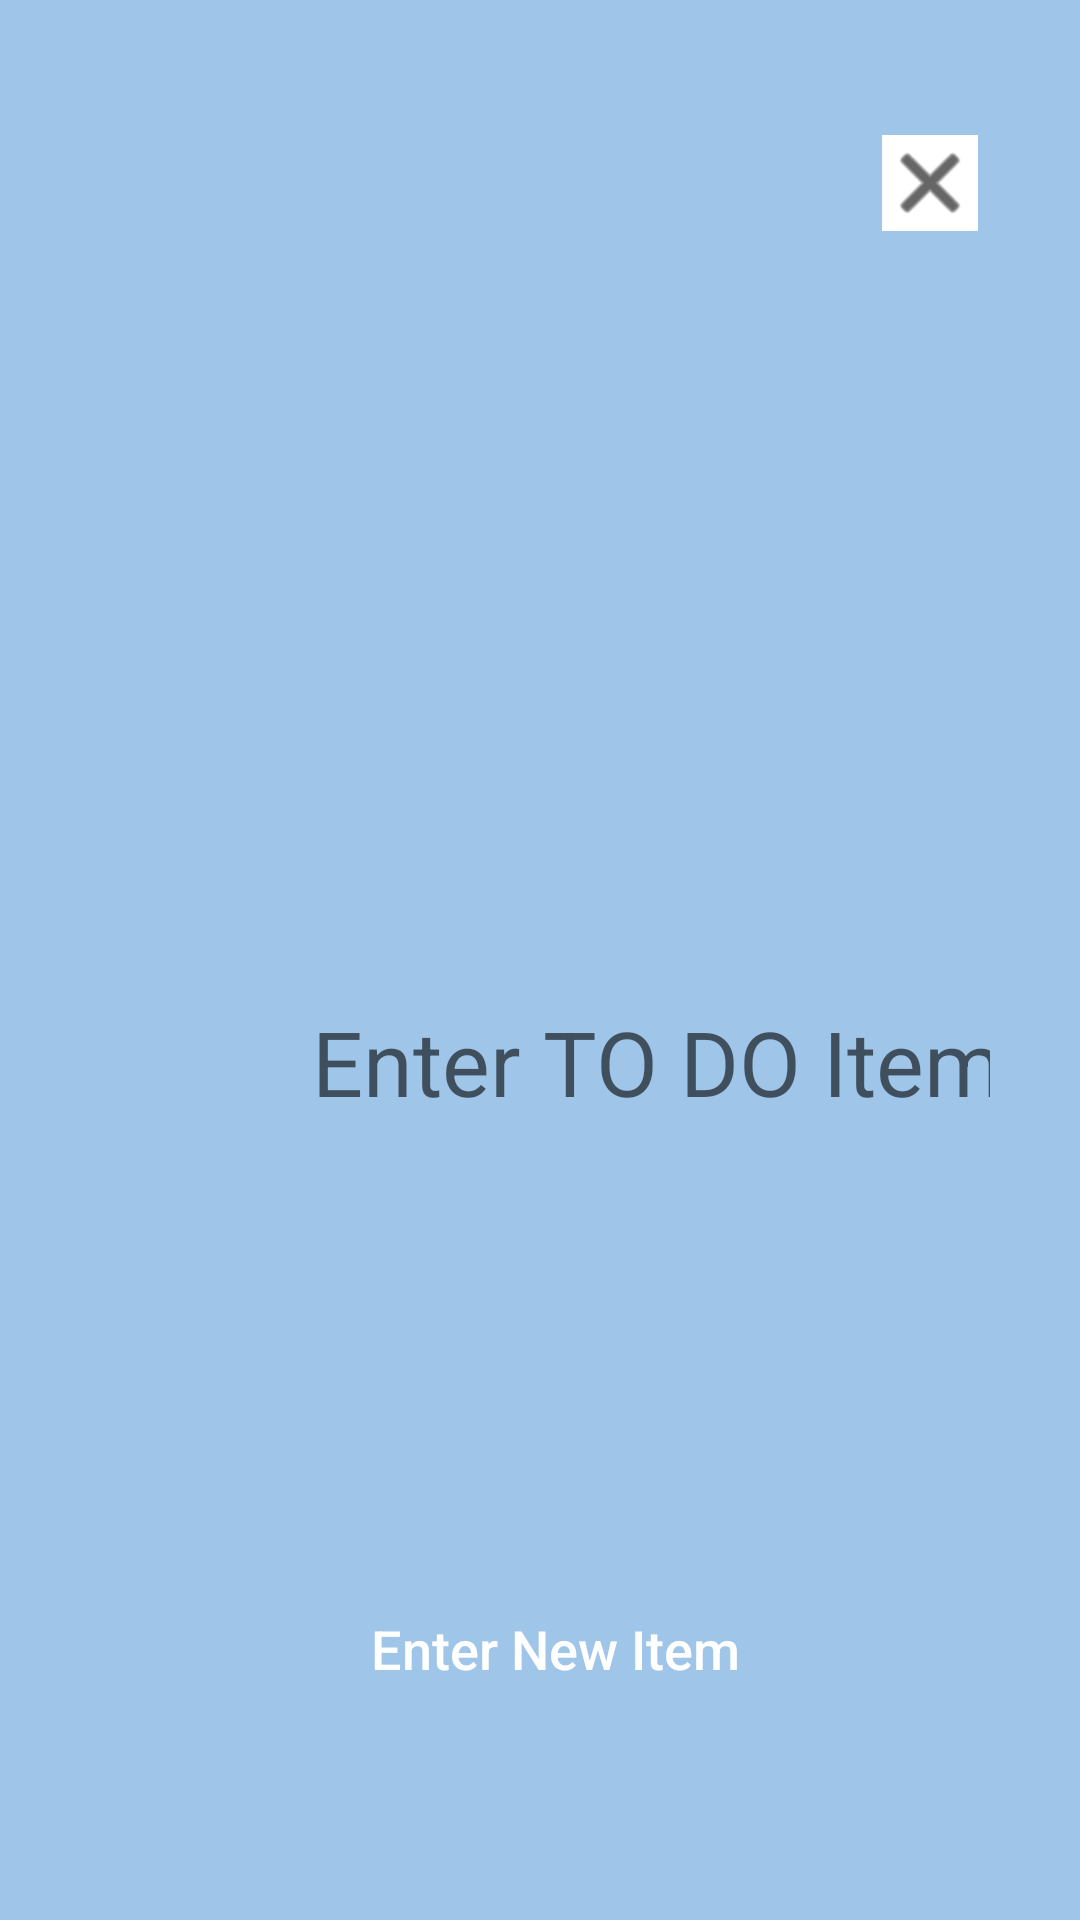

Icon click points for this 1080 x 1920 phone screenshot, format point (x, y):
close clear cancel: point (930, 183)
